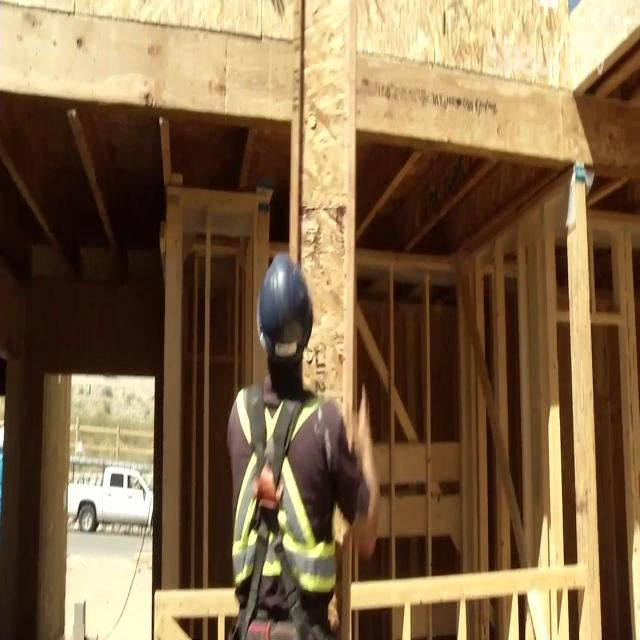Vest: (230, 383, 336, 594)
